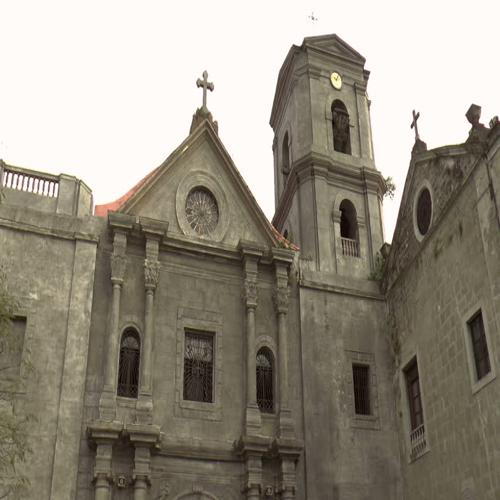San Agustin Church: (99, 19, 392, 500)
